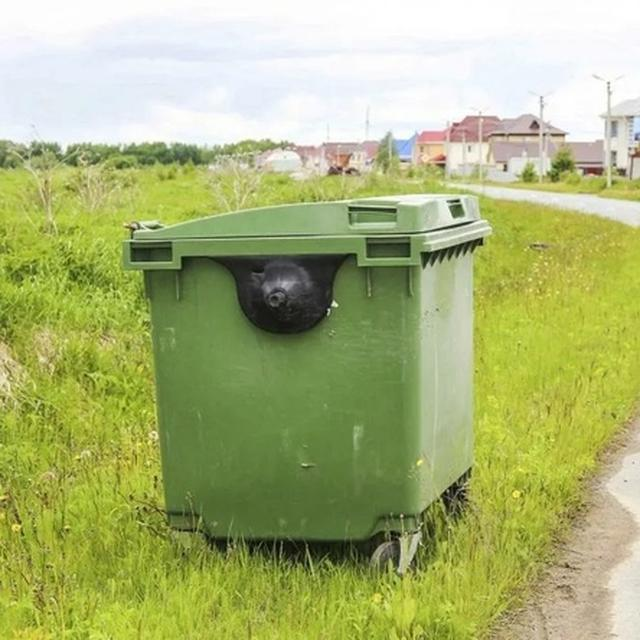Trash_Can_Closed: (122, 192, 491, 542)
